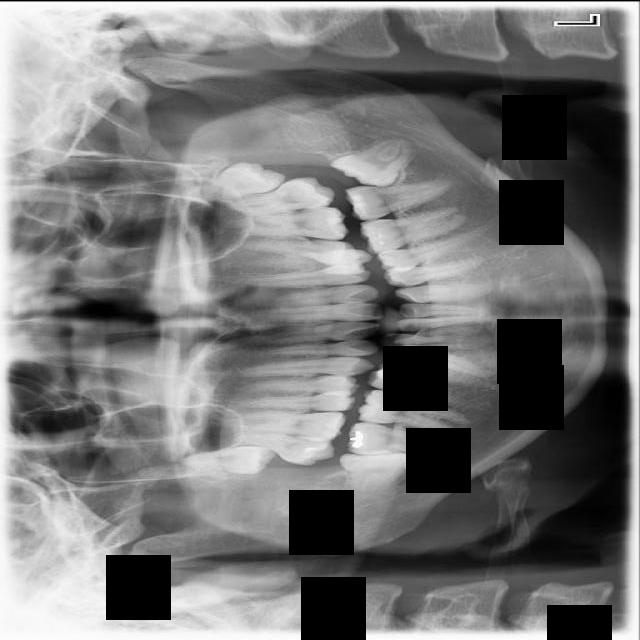3M ESPE Implant: (179, 445, 277, 474)
52: (354, 209, 406, 262), (344, 416, 396, 463), (345, 185, 390, 219)
73: (566, 23, 574, 27)
BioHorizons Implant: (224, 173, 337, 217)
BioLife Implant: (196, 152, 289, 206)
Biomet 3i Implant: (329, 130, 421, 203)
Blue Sky Bio Implant: (344, 177, 453, 222)
Caries: (228, 426, 337, 469)
Implant: (345, 420, 462, 460)
Keystone Dental Implant: (340, 450, 416, 494)
